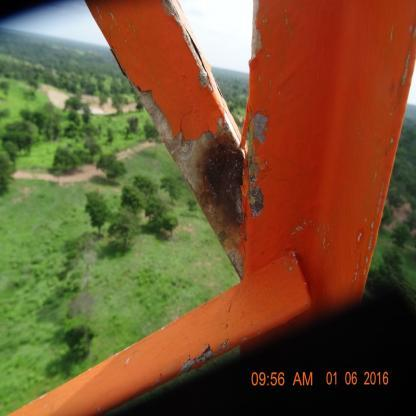rust: (132, 84, 214, 183), (194, 132, 247, 277)
